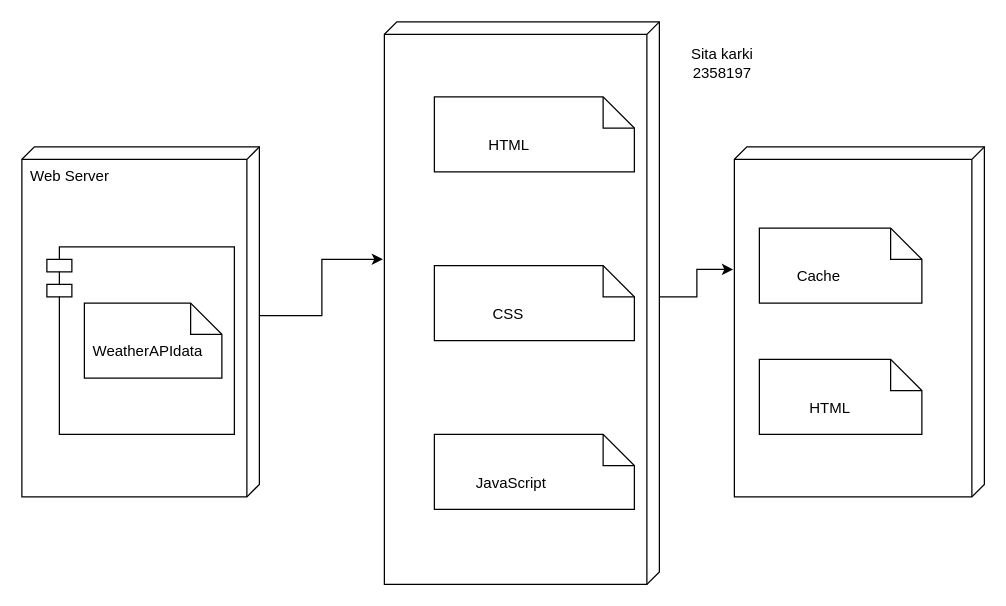
Image size: 1006x606. Some labels were removed from this diagram. Each missing label, with the box of its shape:
Block: (383, 21, 659, 584)
Module: (46, 246, 234, 434)
Web Browser: (733, 146, 984, 497)
